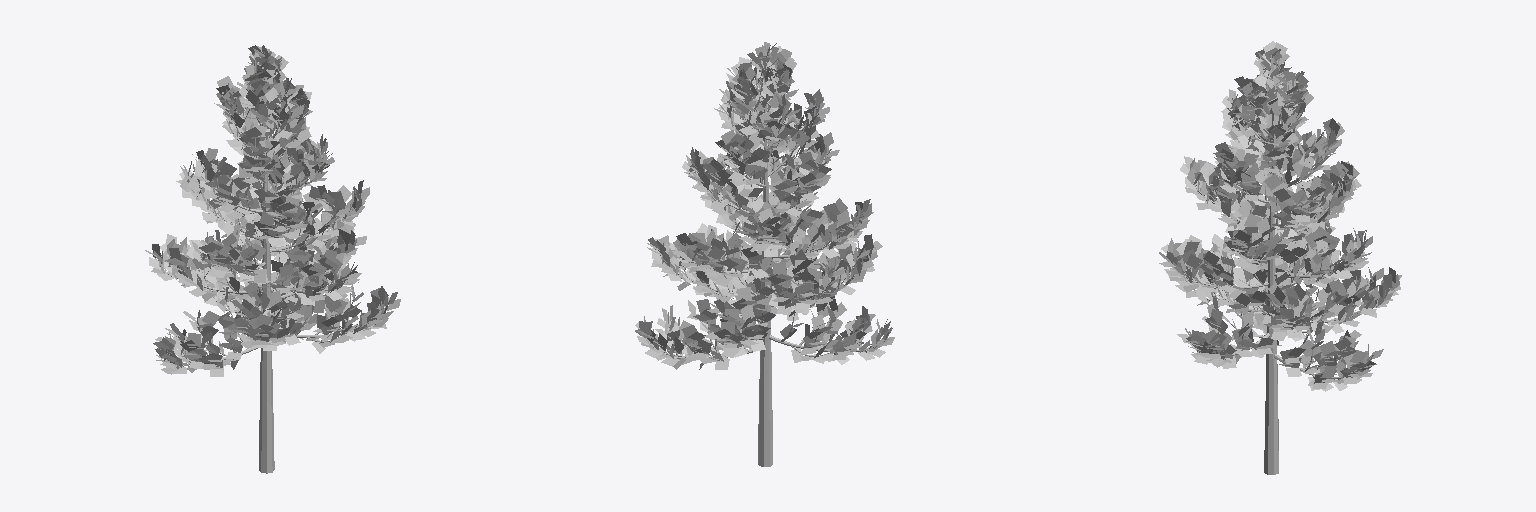
The model's file is MapleTree.obj.
3 renders of one model, left to right at view 1: azimuth 30°, elevation 25°; view 2: azimuth 150°, elevation 25°; view 3: azimuth 270°, elevation 25°, orthographic.
Parts seen in each view (by area): view 1: leaves, leaves.001, tree_Mesh; view 2: leaves, leaves.001, tree_Mesh; view 3: leaves, leaves.001, tree_Mesh.
Boxes of the visible parts, x1=… form: leaves: x1=145, y1=45, x2=400, y2=376; leaves.001: x1=149, y1=46, x2=399, y2=376; tree_Mesh: x1=158, y1=92, x2=372, y2=473; leaves: x1=635, y1=42, x2=894, y2=369; leaves.001: x1=635, y1=43, x2=893, y2=369; tree_Mesh: x1=649, y1=73, x2=879, y2=466; leaves: x1=1159, y1=41, x2=1401, y2=391; leaves.001: x1=1159, y1=41, x2=1400, y2=390; tree_Mesh: x1=1170, y1=60, x2=1371, y2=474.
Size of the model in its own units: 28.65 by 51.49 by 26.93.